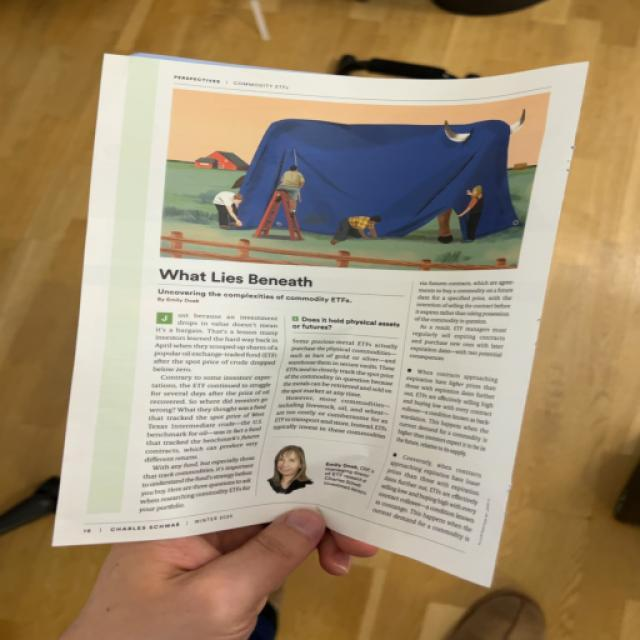document: (54, 55, 588, 586)
